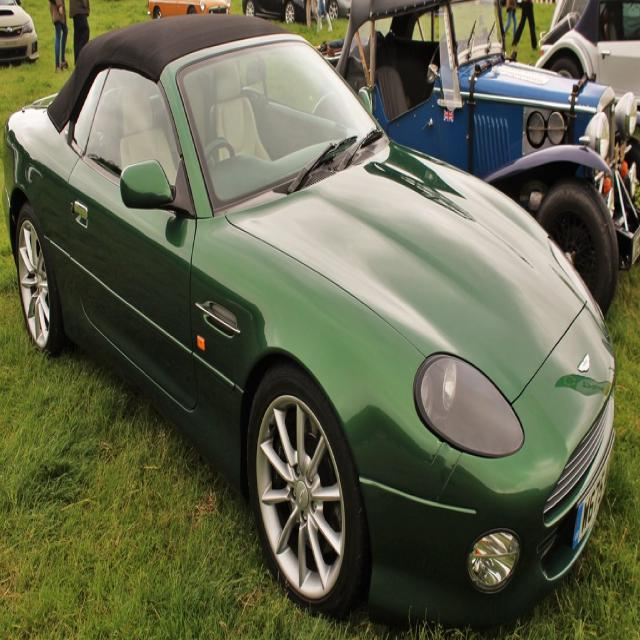car: (10, 17, 596, 610)
